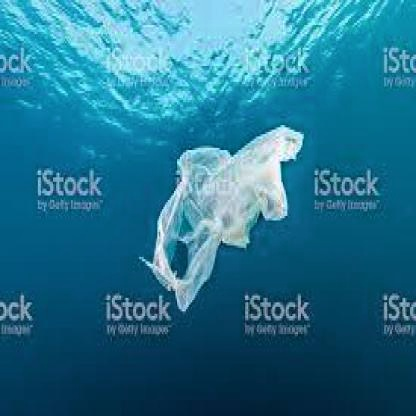pbag: (138, 123, 304, 316)
